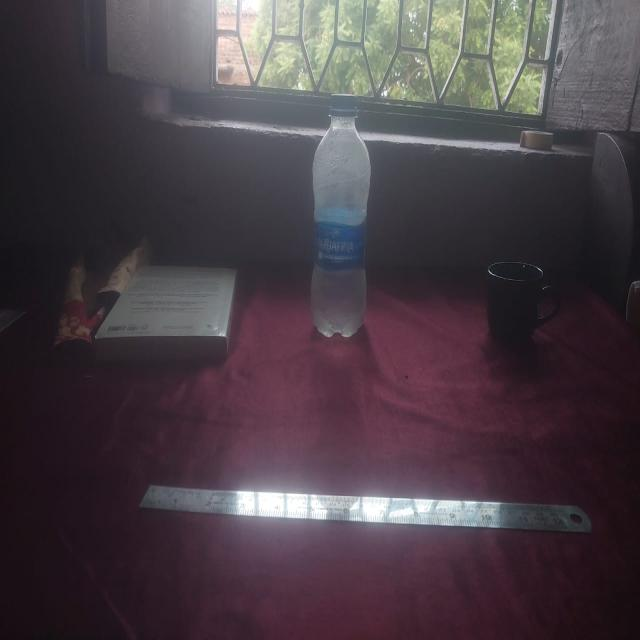Book: (94, 202, 244, 364)
Bottle: (298, 90, 377, 338)
Cup: (478, 260, 572, 358)
scale: (141, 472, 607, 540)
